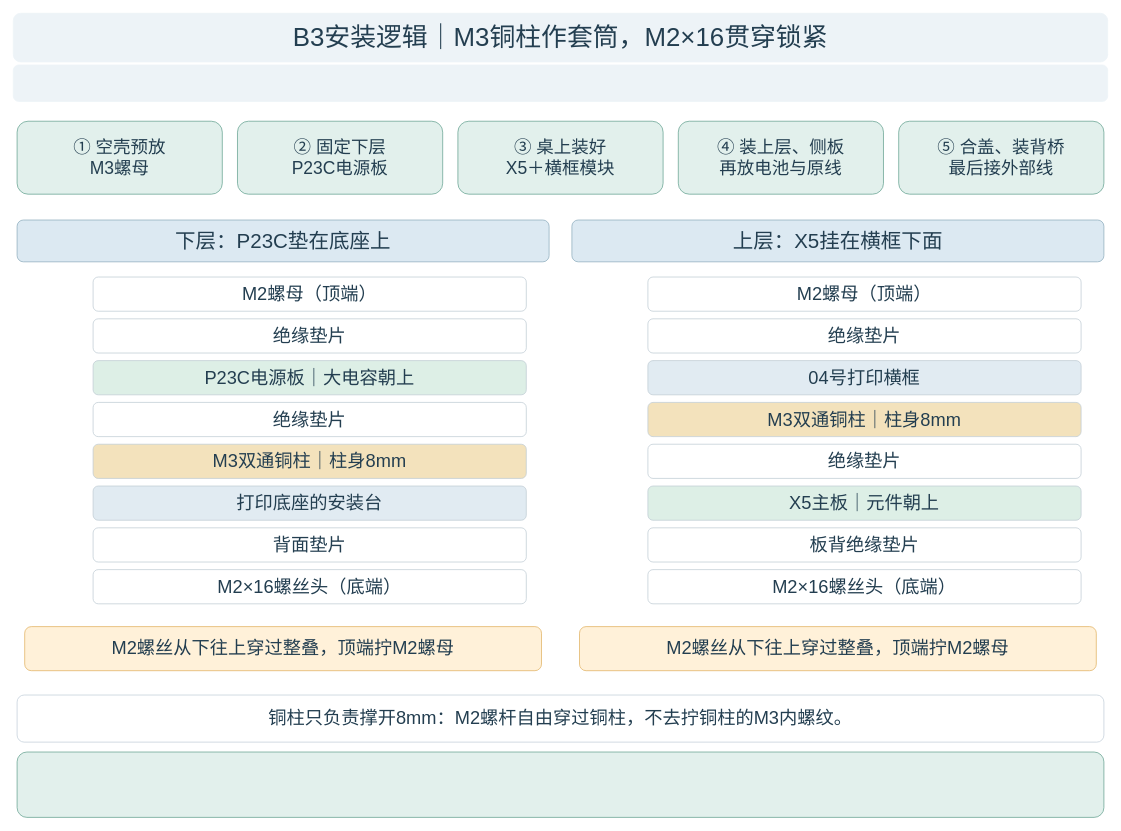
Some shapes in this 1121 by 831 pixel diagram are drawn without their labels. Here are the shapes that lost their labels. From the top down, the centre of each, then its label:
At pixel 560 82: "先断开电池和USB；图为安装顺序示意，不按比例画。".
At pixel 560 784: "输出公头 → P23C的DC口；P23C的USB输出 → X5电源C口（看板上丝印） 充电母头留在电池侧仓；带子侧放进背桥后锁回，不压电池。".
